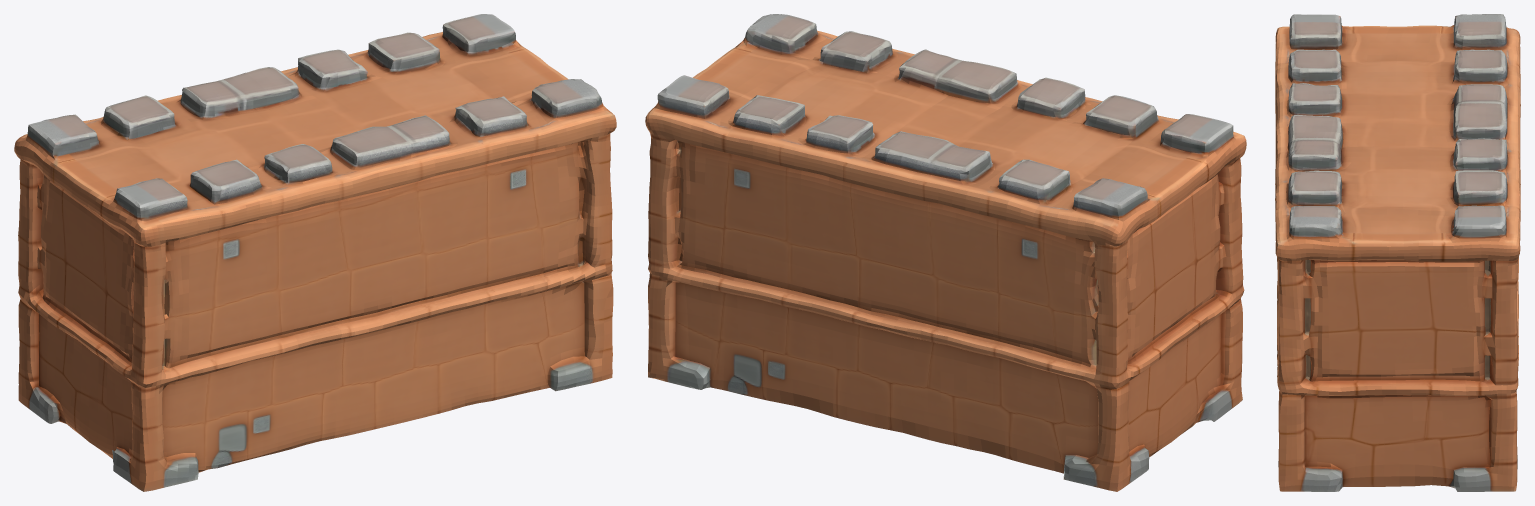
Rendered from Meshy_AI_Stylized_low_poly_ado_0519051338_texture.obj.
3 renders of one model, left to right at view 1: azimuth 30°, elevation 25°; view 2: azimuth 150°, elevation 25°; view 3: azimuth 270°, elevation 25°, orthographic. The views are drawn at different scales.
Parts seen in each view (by area): view 1: Meshy_AI_Stylized_low_poly_ado_0519051338_texture; view 2: Meshy_AI_Stylized_low_poly_ado_0519051338_texture; view 3: Meshy_AI_Stylized_low_poly_ado_0519051338_texture.
Part boxes in pixels (x1,y1,x2,y2): Meshy_AI_Stylized_low_poly_ado_0519051338_texture: (14, 14, 616, 491); Meshy_AI_Stylized_low_poly_ado_0519051338_texture: (645, 14, 1246, 491); Meshy_AI_Stylized_low_poly_ado_0519051338_texture: (1275, 14, 1520, 491).
Size of the model in its own units: 1.91 by 1.08 by 0.9057.
1 material, 1 textured.
